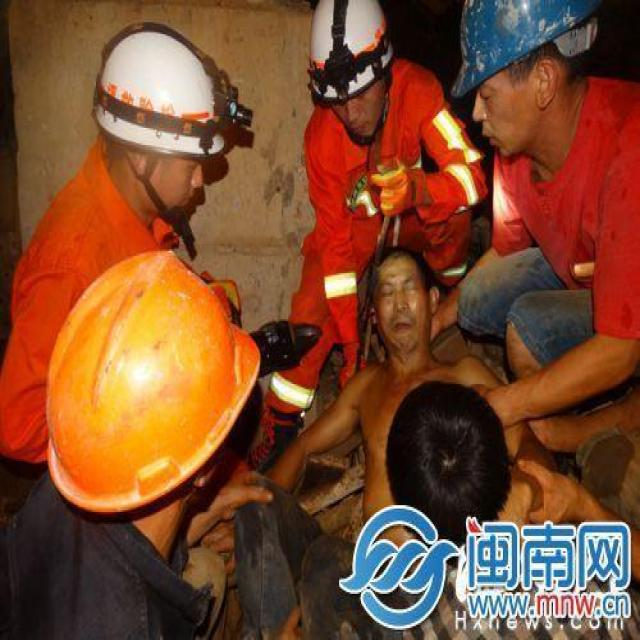fall: (239, 247, 555, 640)
nonfall: (0, 25, 254, 463), (449, 0, 640, 389), (272, 0, 483, 246)
